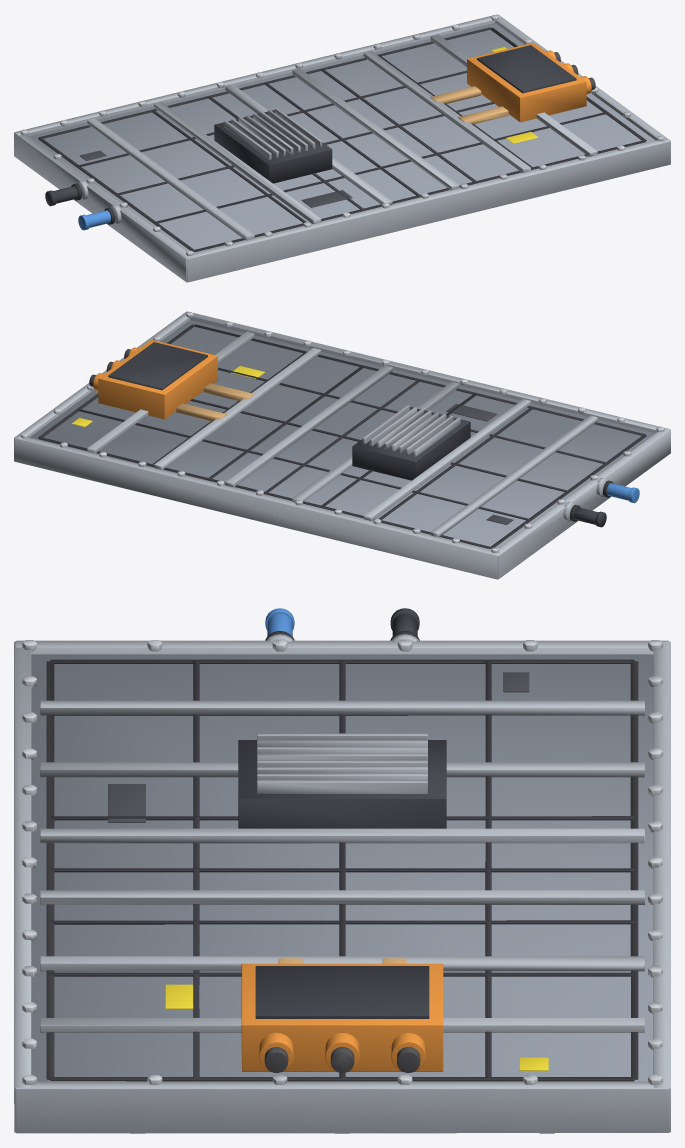
Rendered from battery.glb.
3 views of the same model, one above another, from view 1: azimuth 30°, elevation 25°; view 2: azimuth 150°, elevation 25°; view 3: azimuth 270°, elevation 25° (orthographic). The views are drawn at different scales.
Parts seen in each view (by area): view 1: battery; view 2: battery; view 3: battery.
Boxes of the visible parts, bbox=[...] form: battery: bbox=[14, 14, 670, 282]; battery: bbox=[14, 311, 670, 579]; battery: bbox=[14, 608, 670, 1133].
Size of the model in its own units: 3.27 by 0.3382 by 1.89.
5 materials, 5 textured.
